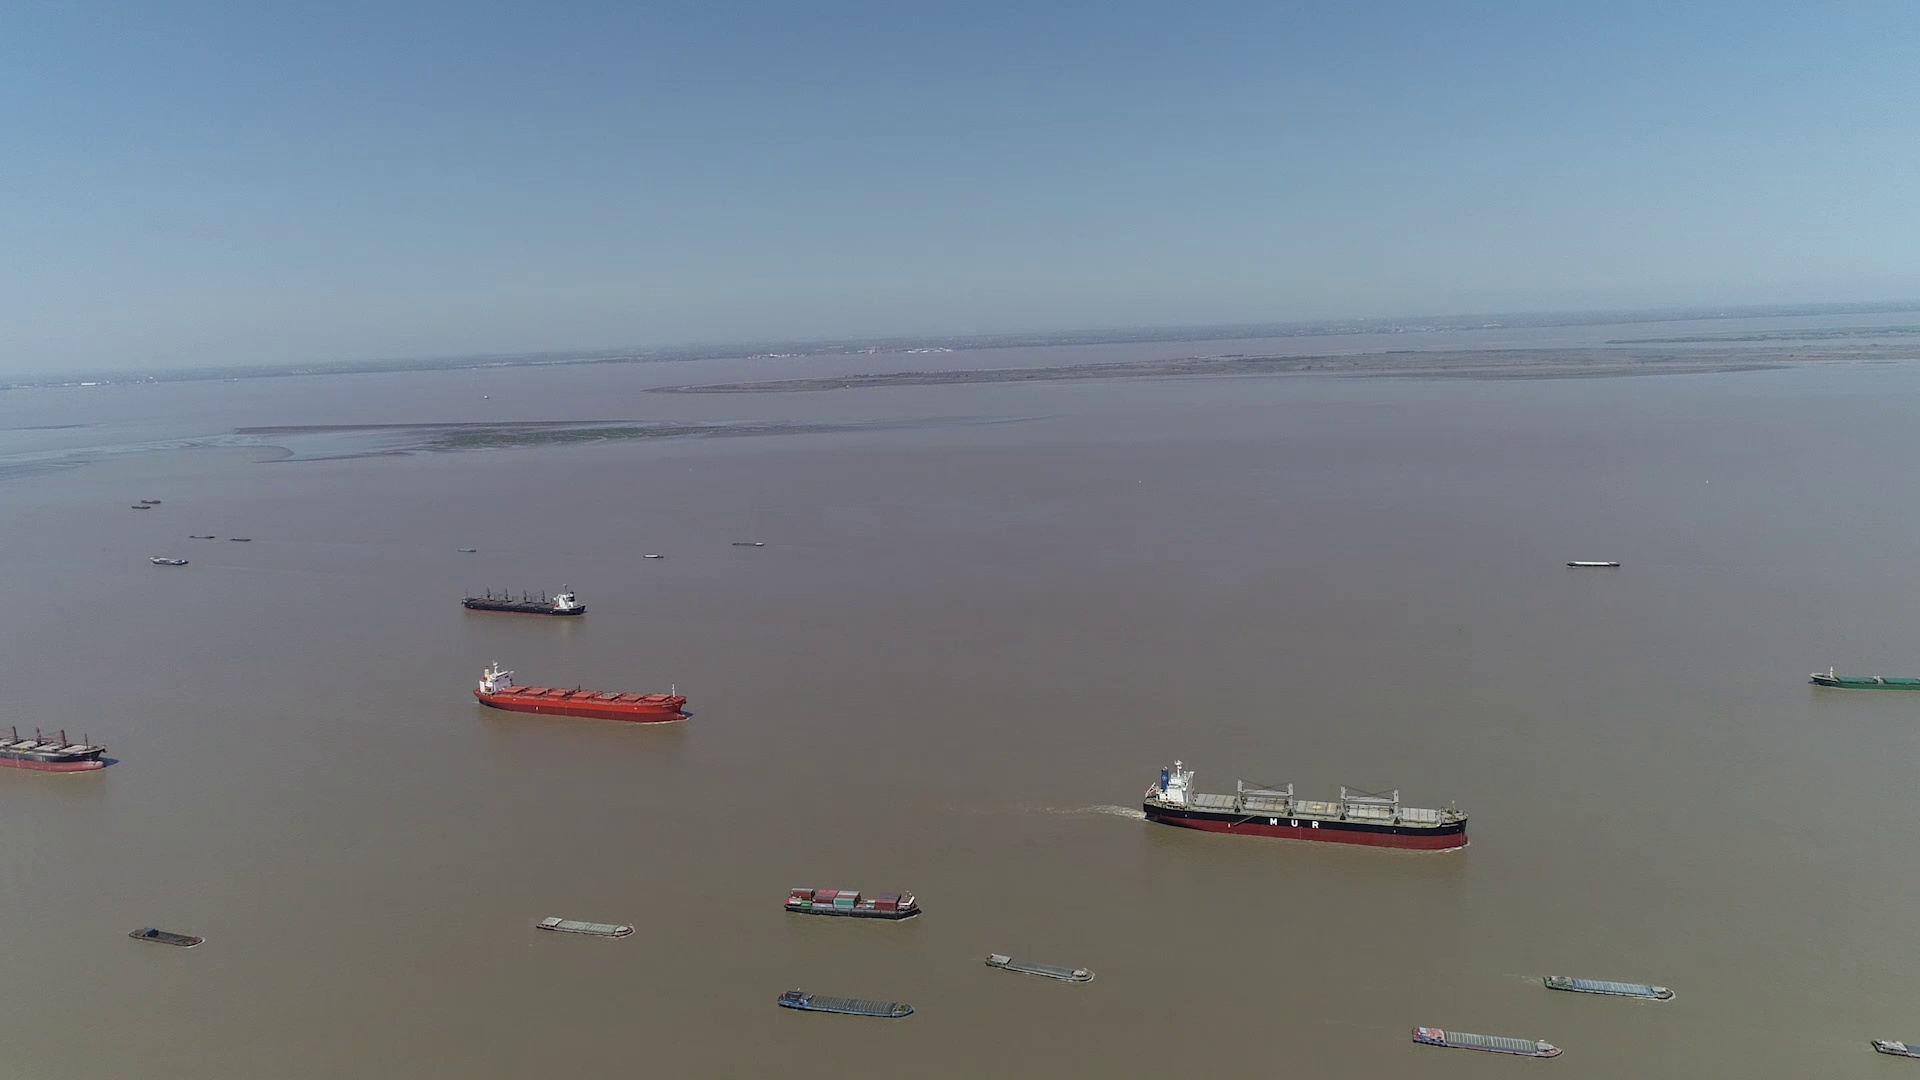ship: (1139, 760, 1472, 849), (476, 661, 687, 724), (1, 709, 113, 773), (781, 886, 922, 920), (1414, 1026, 1560, 1059), (775, 989, 915, 1021), (463, 585, 587, 616), (985, 952, 1095, 984), (1545, 975, 1675, 1001), (1808, 669, 1917, 692), (535, 915, 634, 938), (131, 926, 202, 948), (1871, 1036, 1920, 1062), (1568, 558, 1621, 567), (150, 555, 193, 564)
